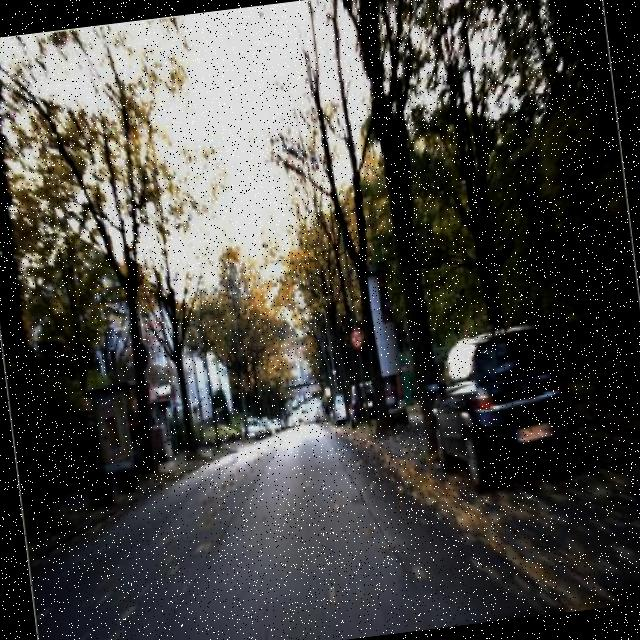Ograniczenie predkosci do 30: (348, 326, 365, 354)
